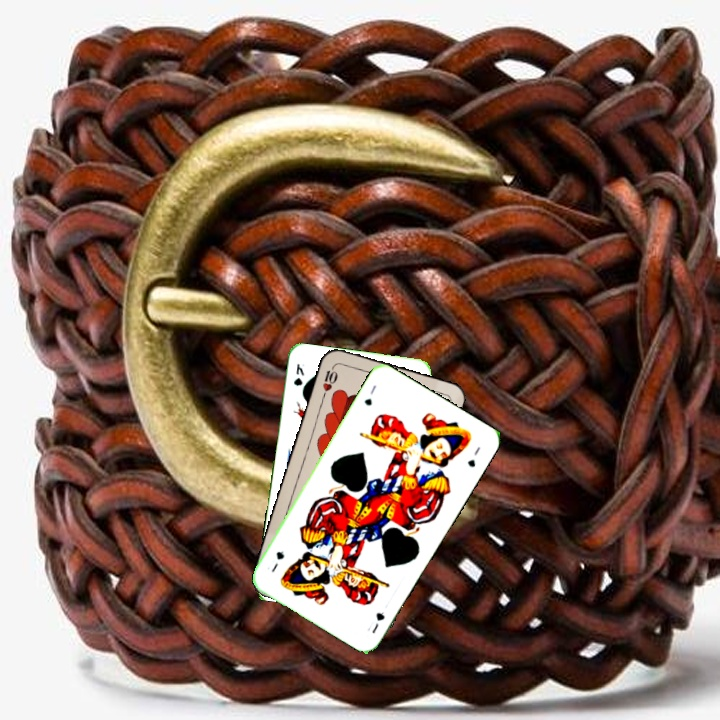GK: (290, 360, 306, 388)
GU: (363, 607, 387, 636), (360, 381, 379, 408)
H10: (318, 361, 340, 400)
